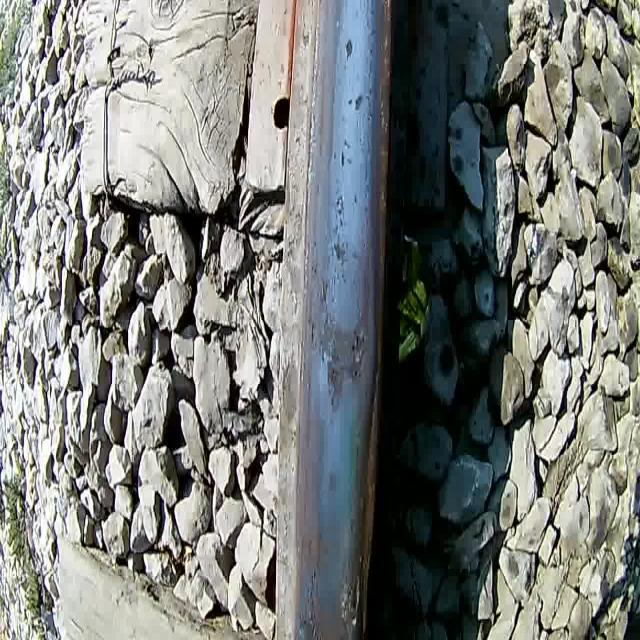Spallings: (339, 541, 371, 632), (344, 326, 369, 384)
Squats: (307, 276, 373, 418), (336, 522, 374, 640), (323, 183, 363, 268), (290, 556, 328, 640), (342, 89, 368, 114), (341, 31, 354, 68)
